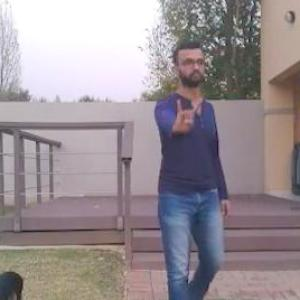takeoff-hand: (169, 89, 205, 136)
